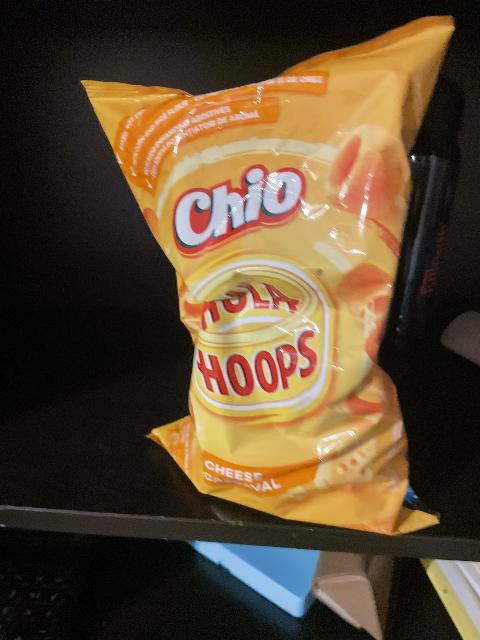Chio Hula Hoops Cheese 70g: (86, 18, 452, 529)
